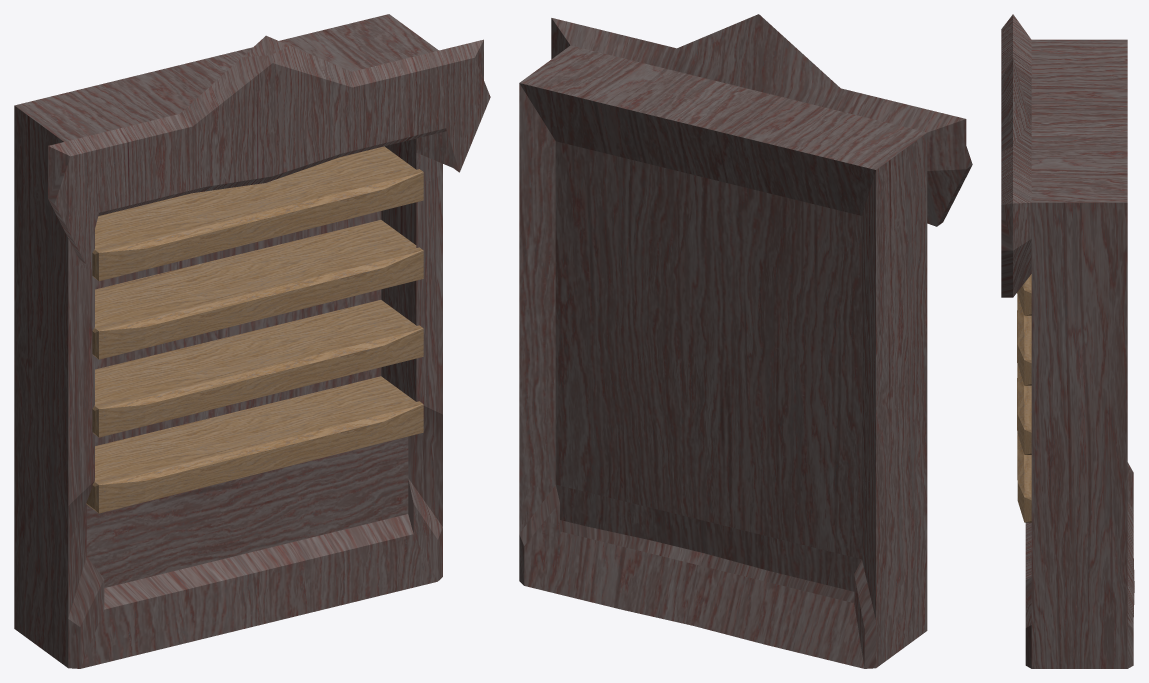
File: Bookshelf 1.fbx
The picture shows the model from 3 angles, left to right: view 1: azimuth 30°, elevation 25°; view 2: azimuth 150°, elevation 25°; view 3: azimuth 270°, elevation 25°; orthographic projection. The views are drawn at different scales.
Visible parts, largest first — view 1: polySurface150; view 2: polySurface150; view 3: polySurface150.
Boxes of the visible parts, box(x1,y1,x2,y2) form: polySurface150: box(14, 14, 490, 668); polySurface150: box(519, 14, 972, 668); polySurface150: box(1001, 14, 1134, 668).
Bounding box in the file's own units: 27.07 × 35.29 × 8.05.
Materials: 2 (2 with a texture image).
